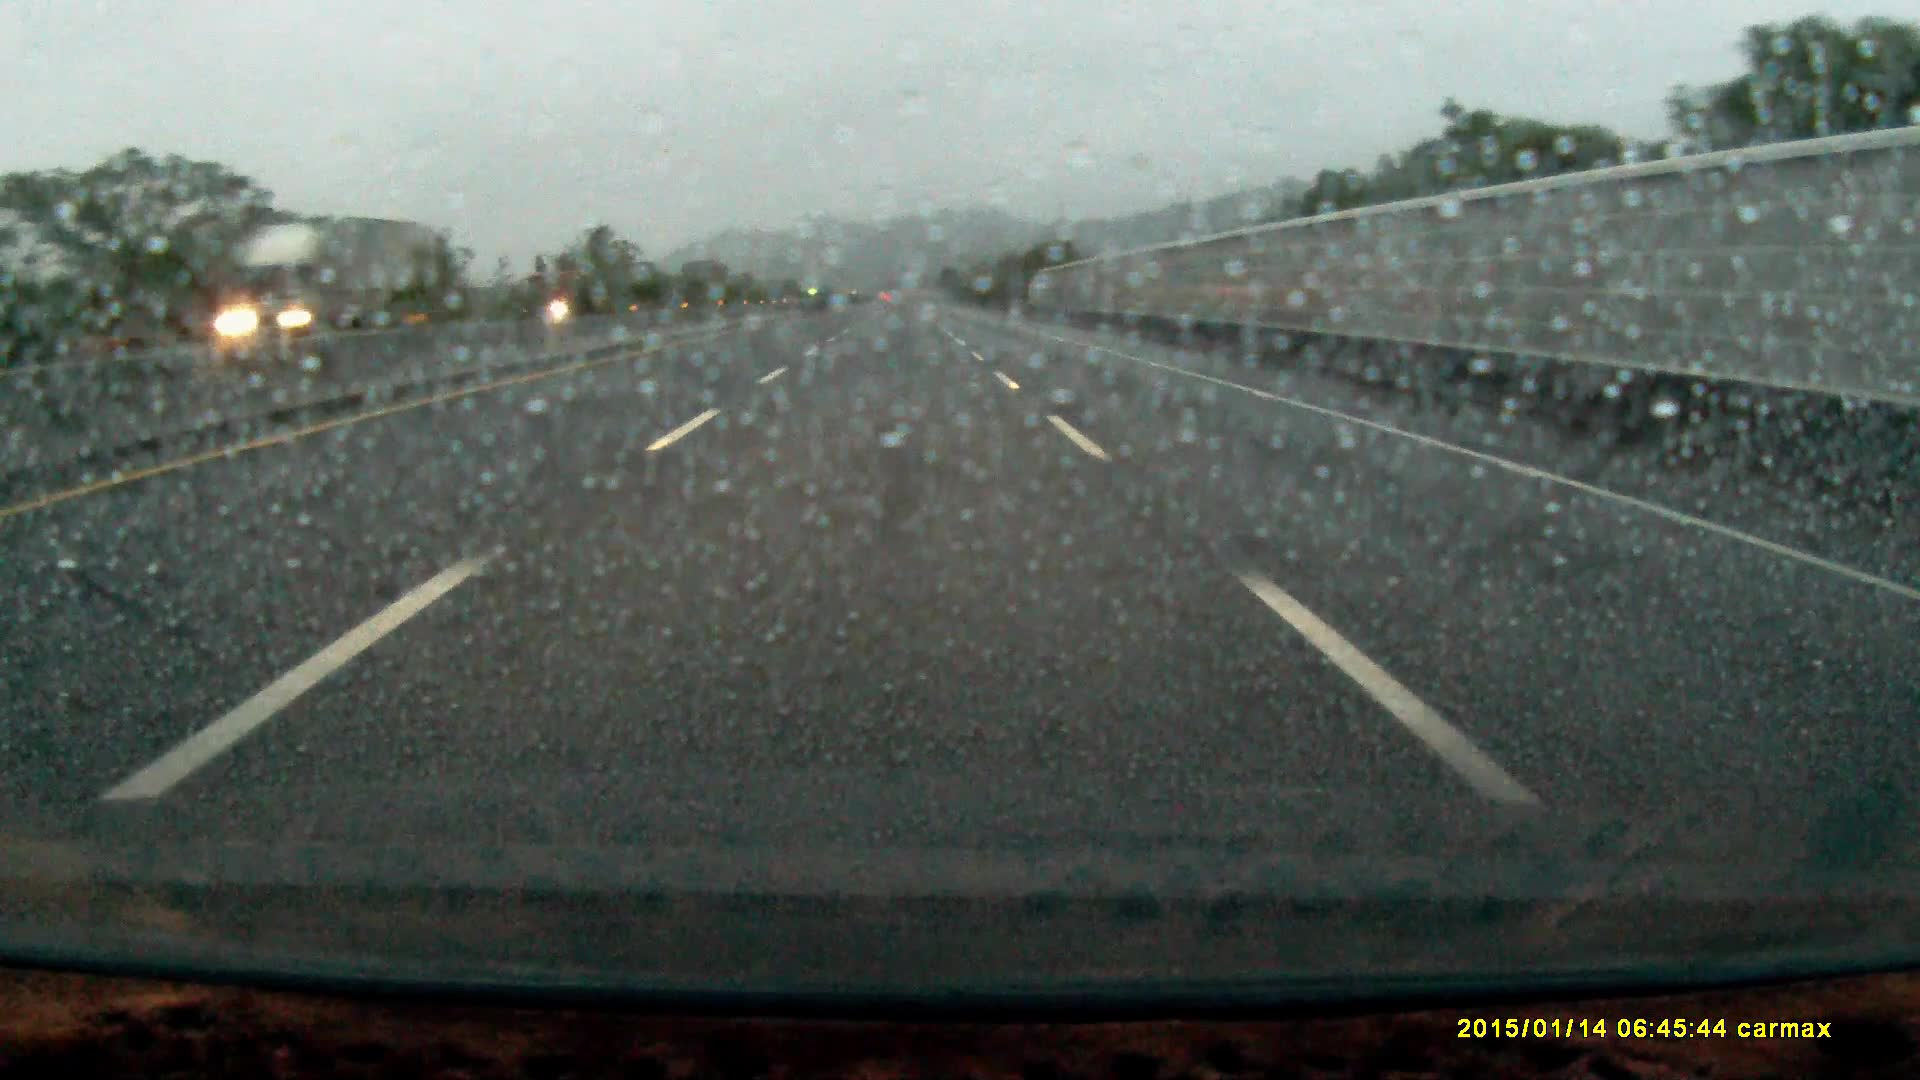vehicle: (208, 223, 419, 340)
